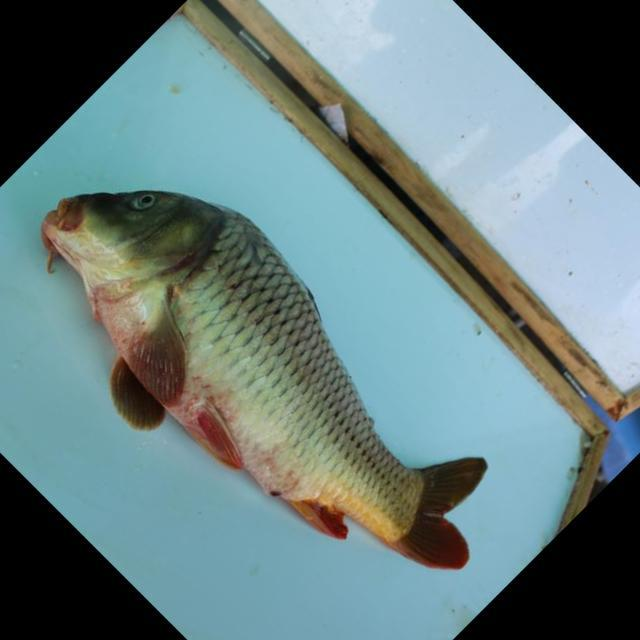CommonCarp: (43, 184, 508, 575)
